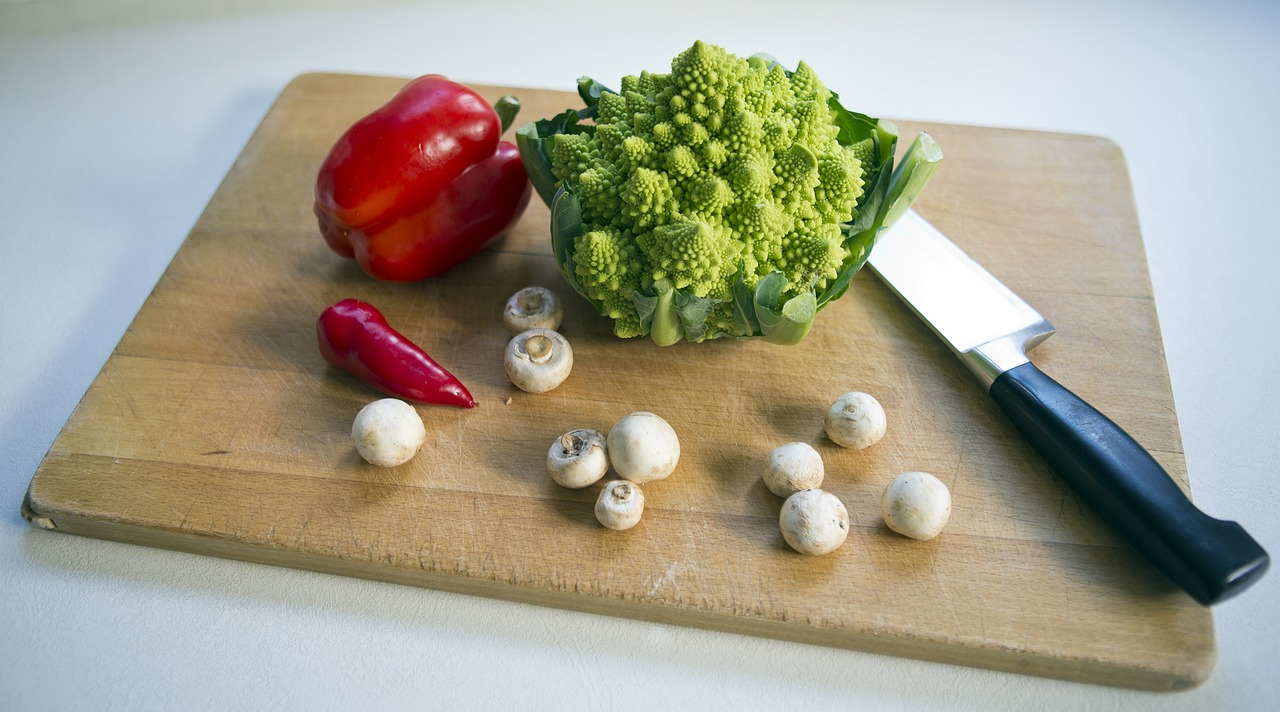knife: (795, 161, 1277, 615)
